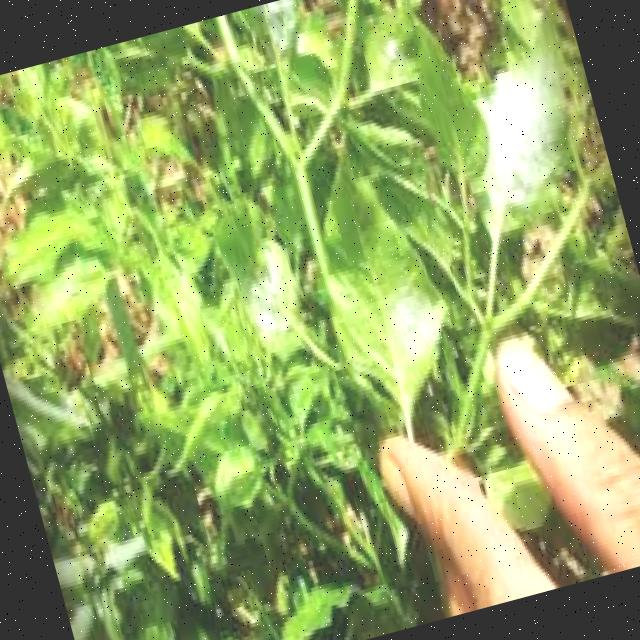leaf curl: (10, 0, 521, 439)
